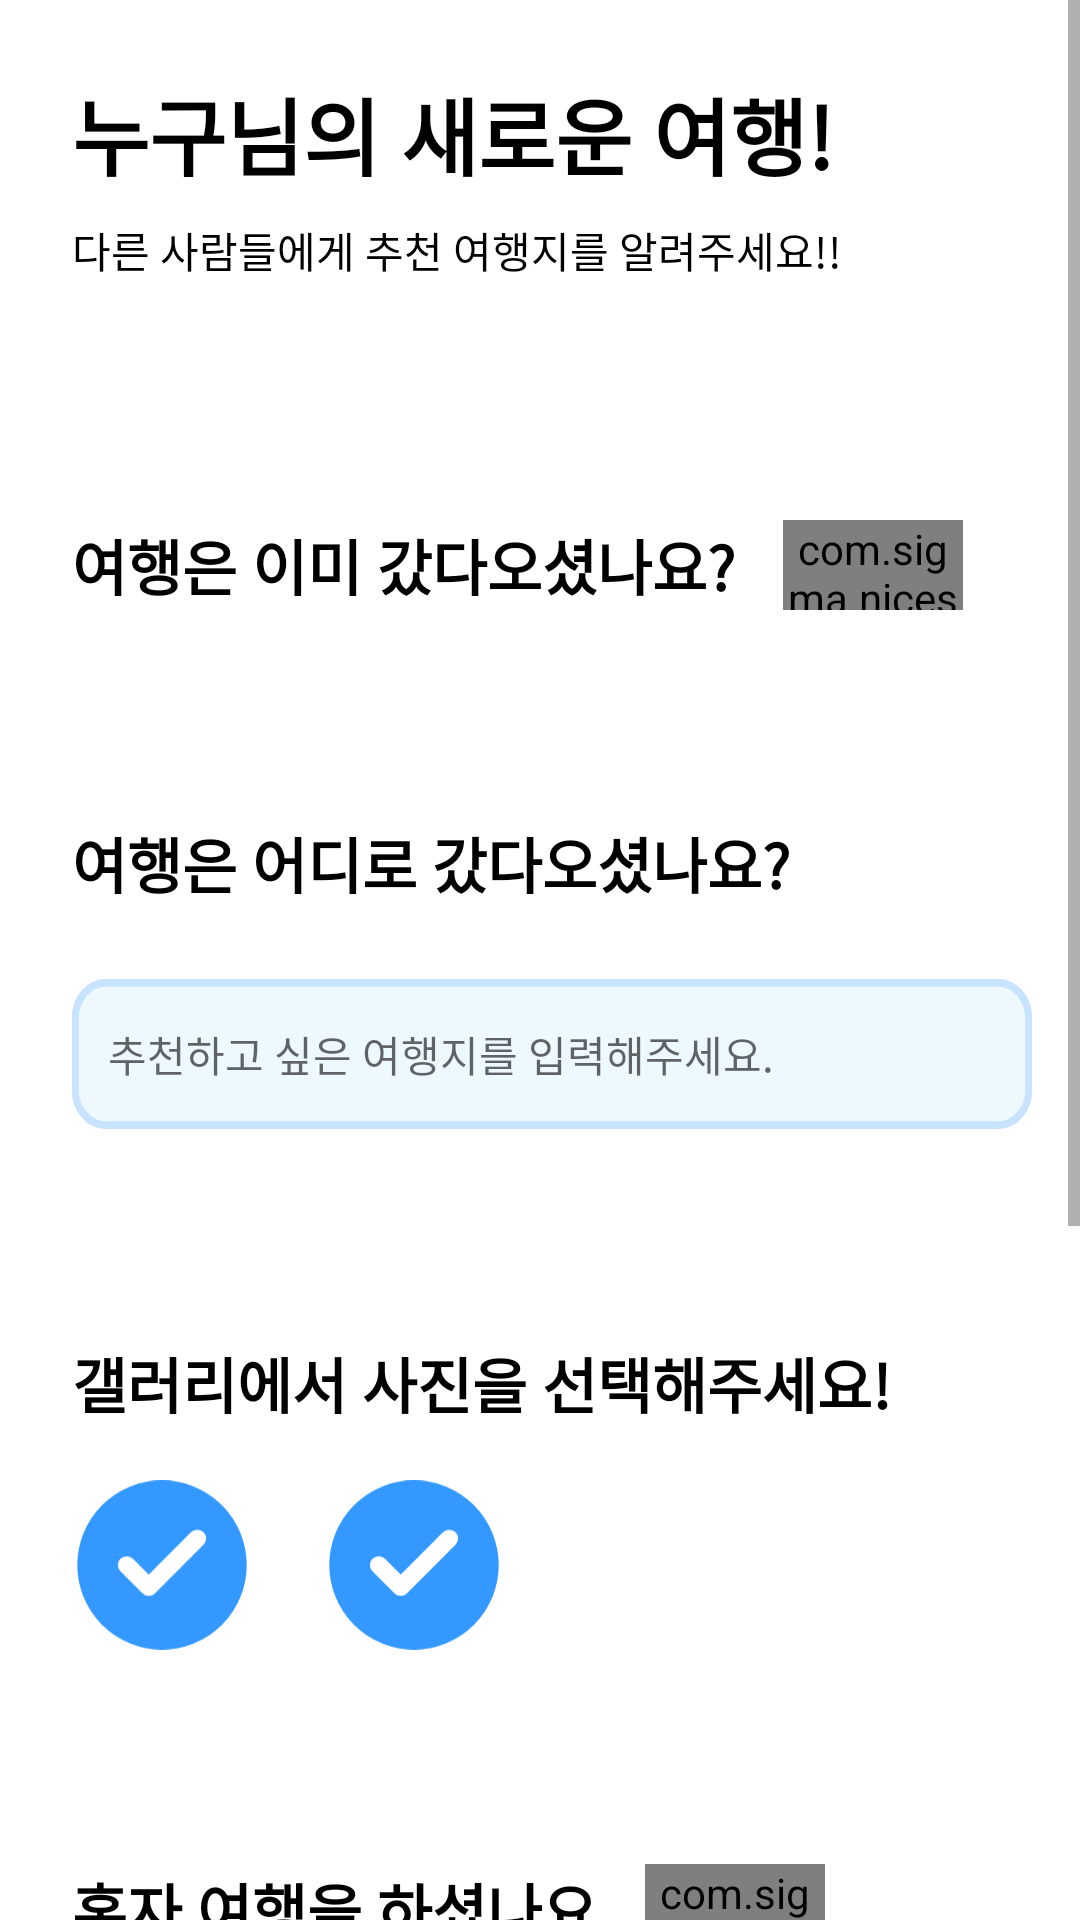

Where to tap for icons on this 1080x1920 app screen, as point (x, y):
travel insert theme check: point (162, 1565), point (414, 1565)
